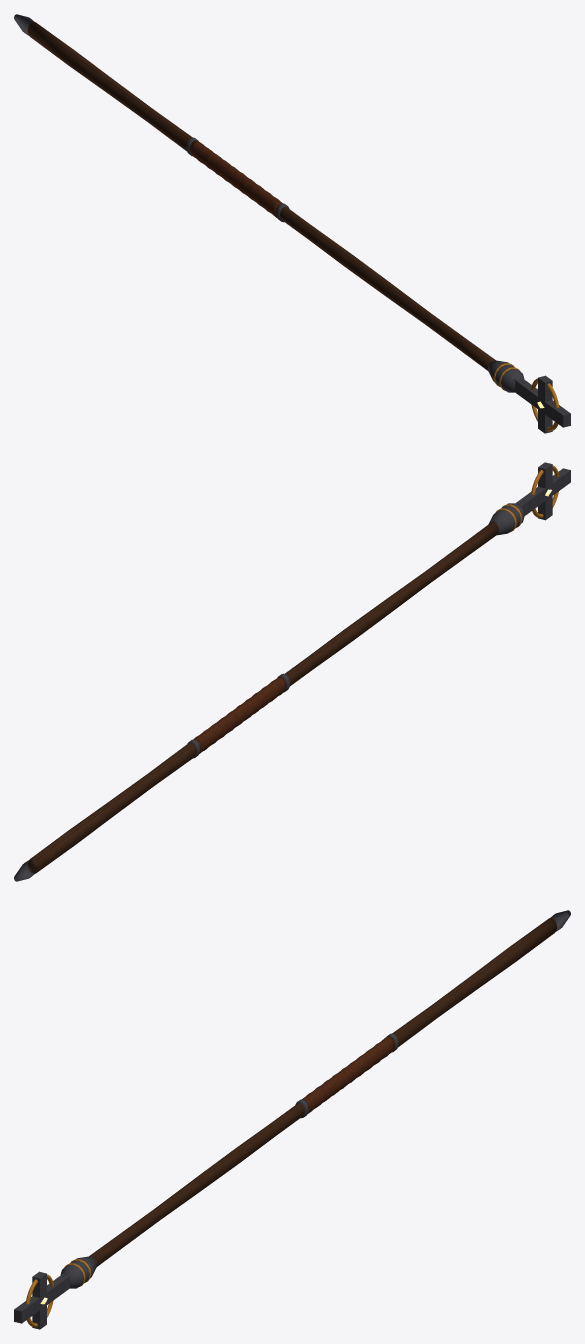
Rendered from weapon_chapel_staff.glb.
The picture shows the model from 3 angles, top to bottom: view 1: azimuth 30°, elevation 25°; view 2: azimuth 150°, elevation 25°; view 3: azimuth 330°, elevation 25°; orthographic projection.
Visible parts, largest first — view 1: chapel_staff; view 2: chapel_staff; view 3: chapel_staff.
Part boxes in pixels (<box>): chapel_staff: <box>14,14,570,433</box>; chapel_staff: <box>14,462,570,881</box>; chapel_staff: <box>14,910,570,1329</box>.
Size of the model in its own units: 0.046 by 0.1 by 1.96.
Materials: 5 (4 with a texture image).
